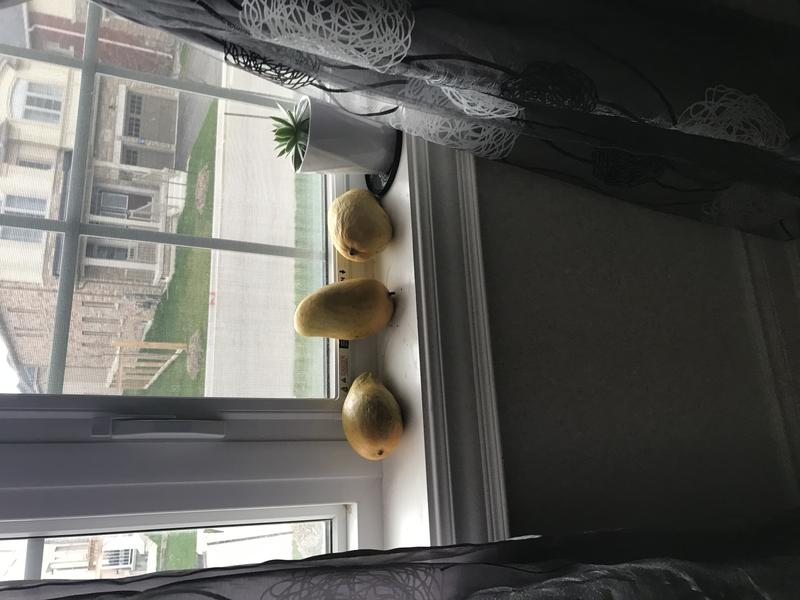w: (283, 274, 410, 342), (335, 366, 409, 472), (324, 185, 400, 268)
